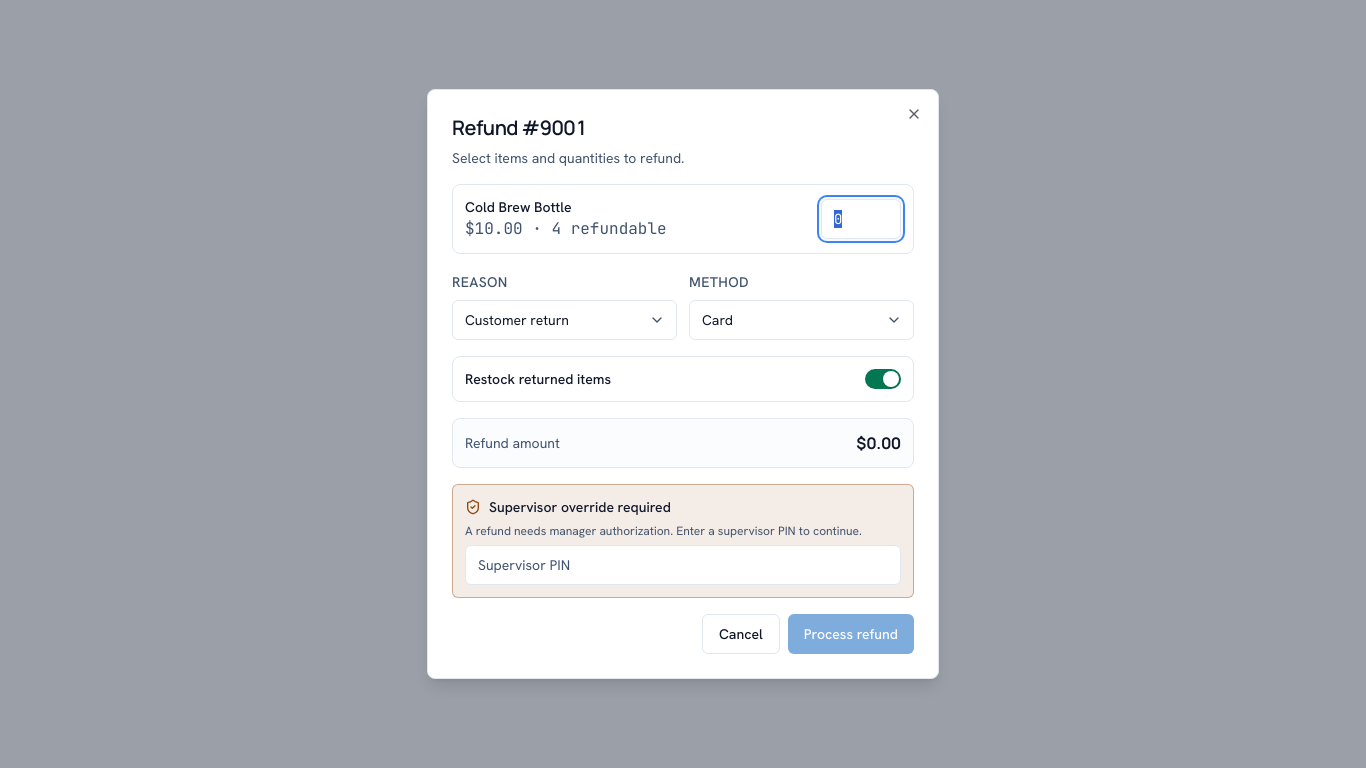
Test: RefundDialog › computes the refund amount from selected quantity and gates on PIN
Expected: the button "Process refund" is disabled, x1=788 y1=614 x2=914 y2=654
Replace the text in the field named "Refund quantity for CB-330" with "2" at (861, 219), box x1=821 y1=199 x2=901 y2=239
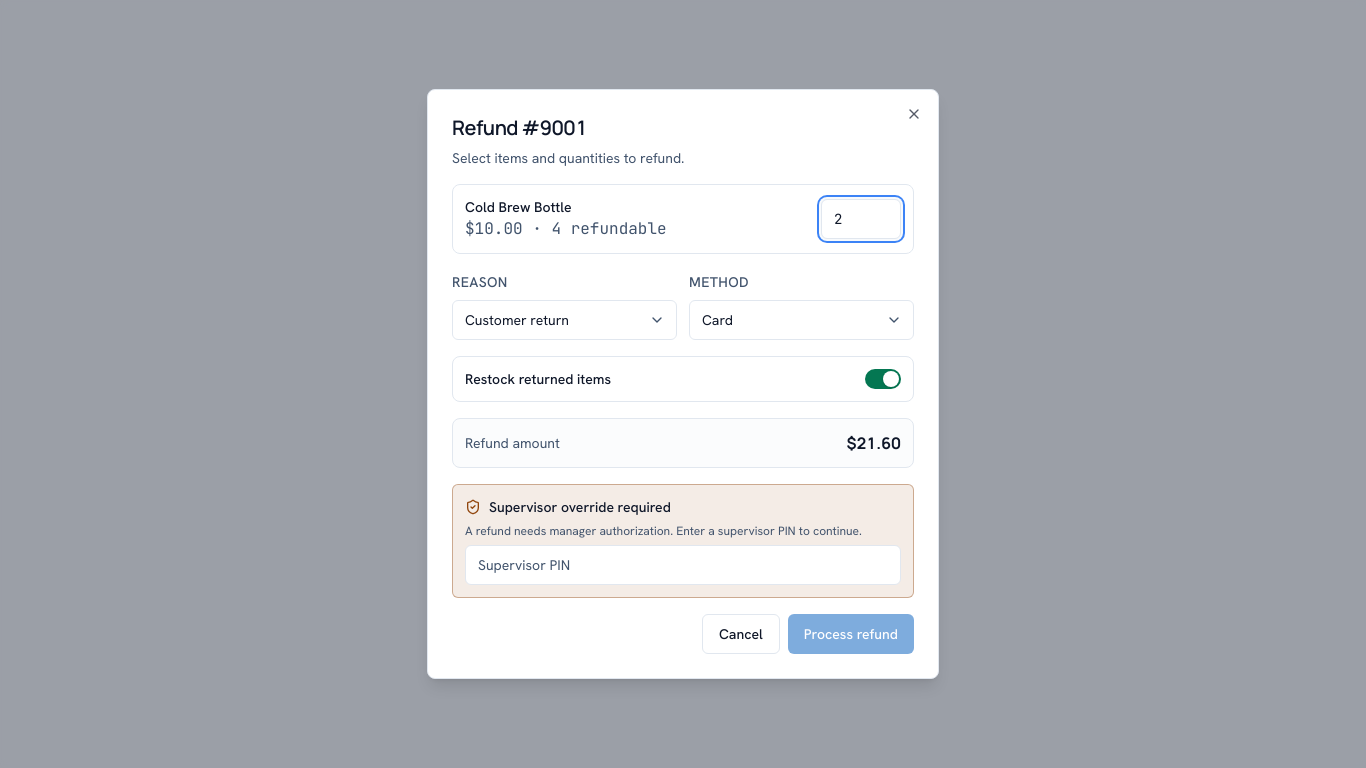
Expected: the button "Process refund" is disabled, x1=788 y1=614 x2=914 y2=654
Now the text "$21.60" is shown, box x1=846 y1=431 x2=901 y2=455
Type "1234" into the password field with placeholder "Supervisor PIN" at (683, 565), box x1=465 y1=545 x2=901 y2=585
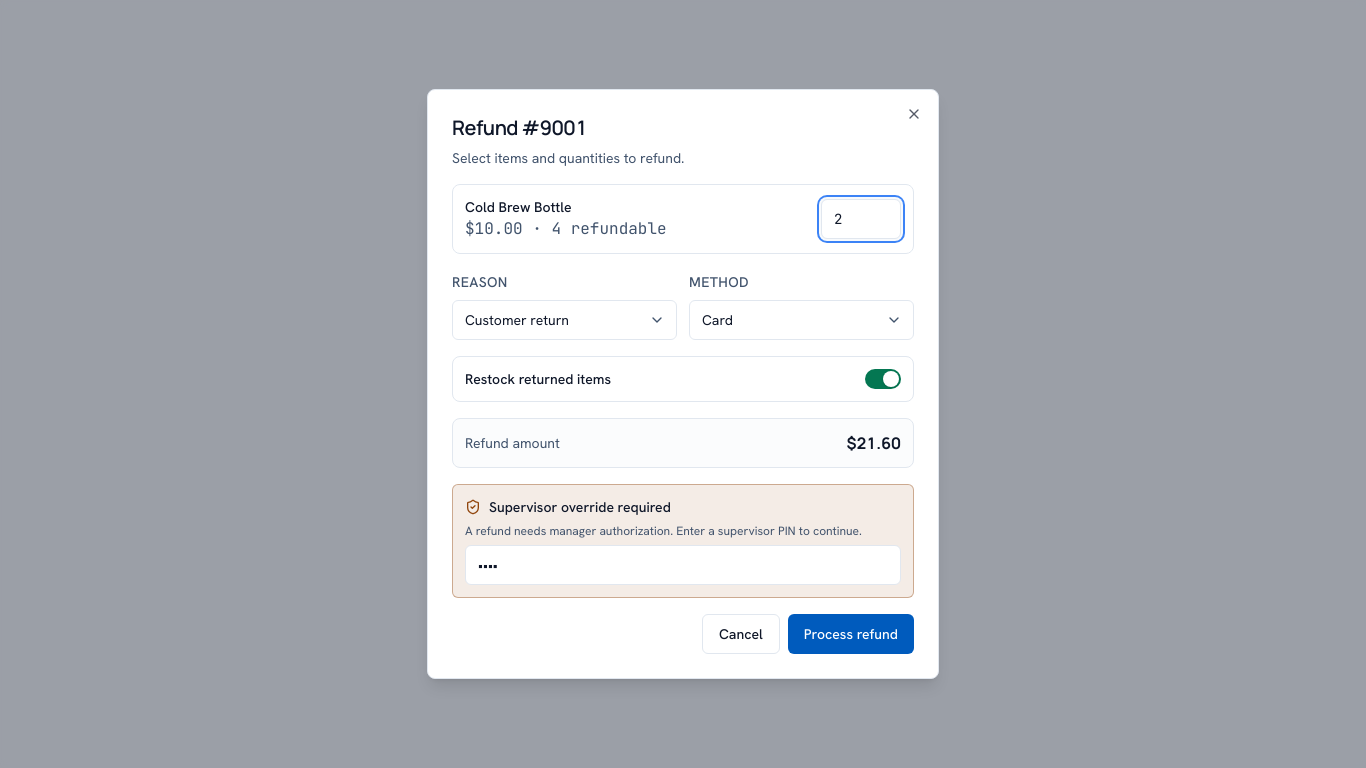
Now the button "Process refund" is enabled, box x1=788 y1=614 x2=914 y2=654
